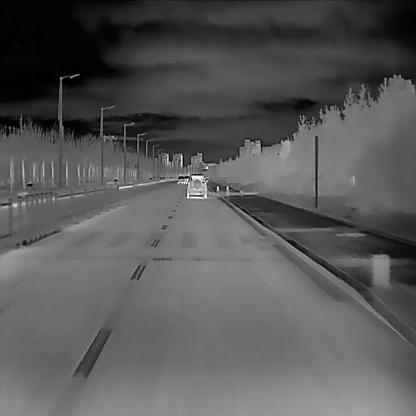car: (186, 174, 207, 198), (177, 175, 185, 184), (184, 175, 189, 184)
